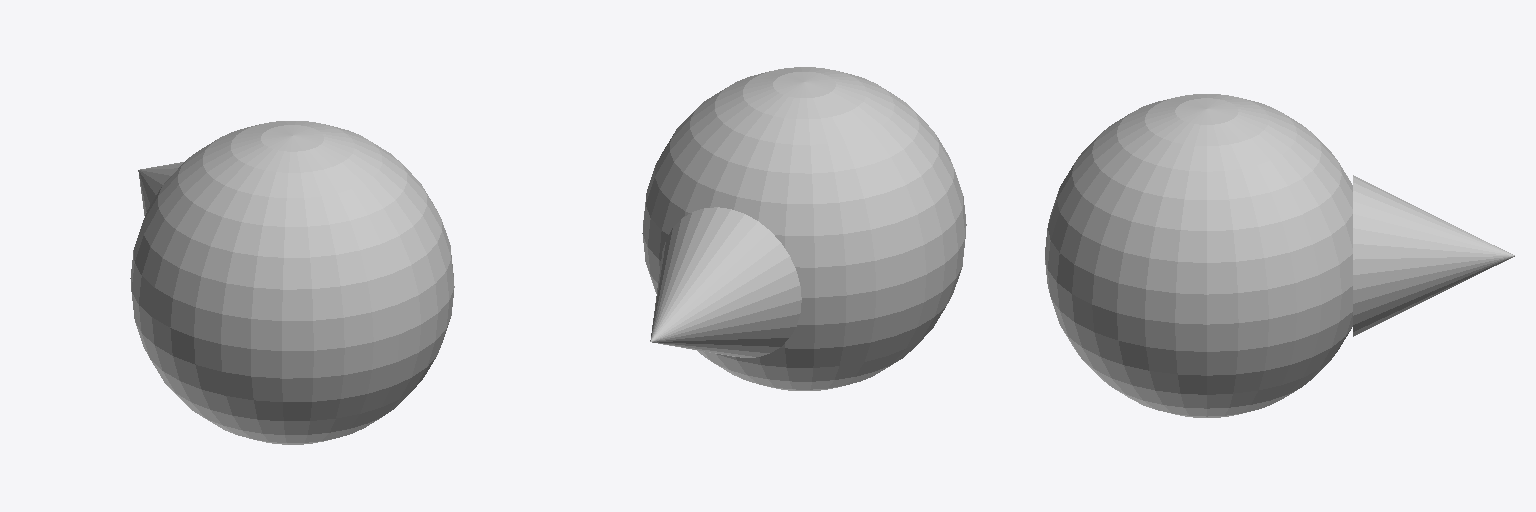
Rendered from enemy.obj.
The picture shows the model from 3 angles: view 1: azimuth 30°, elevation 25°; view 2: azimuth 150°, elevation 25°; view 3: azimuth 270°, elevation 25°; orthographic projection.
Visible parts, largest first — view 1: Sphere, Cone; view 2: Sphere, Cone; view 3: Sphere, Cone.
Part boxes in pixels (x1,y1,x2,y2): Sphere: (130,121,454,444); Cone: (138,162,183,215); Sphere: (642,67,966,390); Cone: (650,207,801,357); Sphere: (1045,94,1352,417); Cone: (1353,175,1514,336).
Bounding box in the file's own units: 2 × 2 × 2.9.